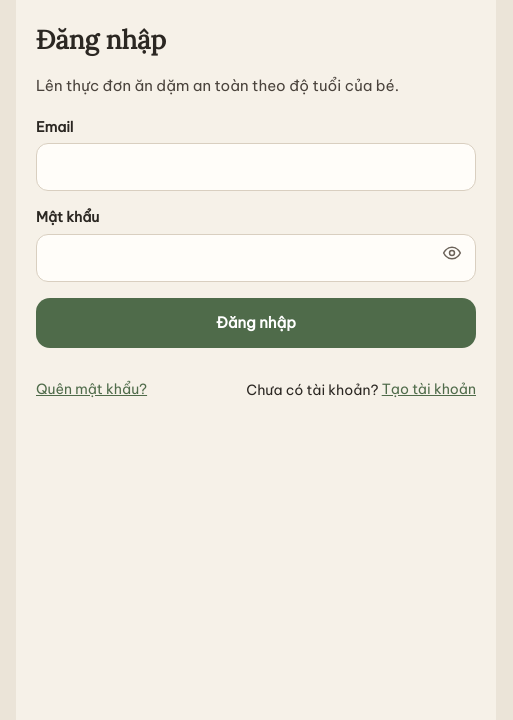
it: login › explains TOO_MANY_REQUESTS and keeps what was typed
In the field labelled "Email": (256, 167) [36,143,476,191], type "na@example.vn"
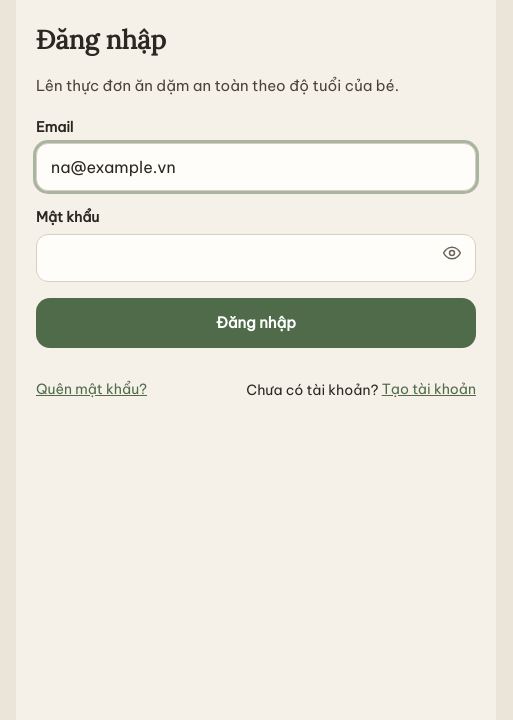
In the password field labelled "Mật khẩu": (256, 258) [36,234,476,282], type "wrong password"
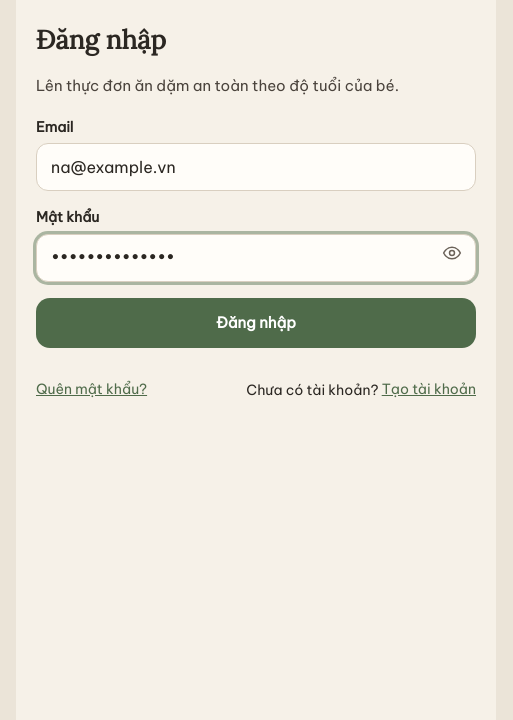
Click the button "Đăng nhập": (256, 322) [36,298,476,348]
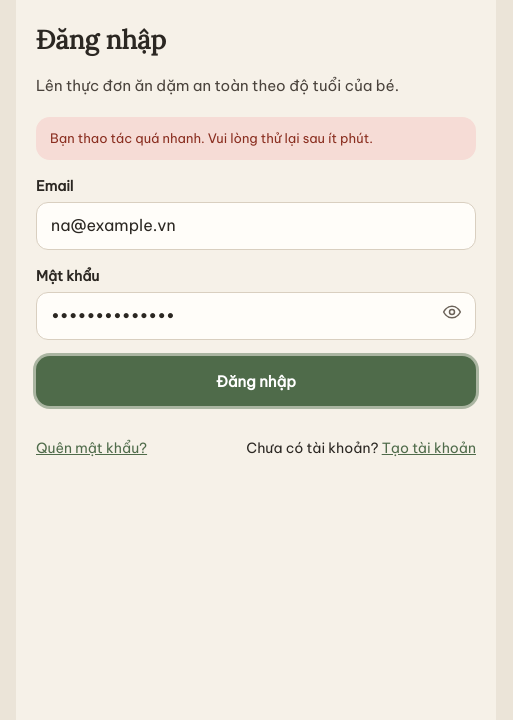
Result: the message reads "Bạn thao tác quá nhanh. Vui lòng thử lại sau ít phút." at [50,130,373,146]
